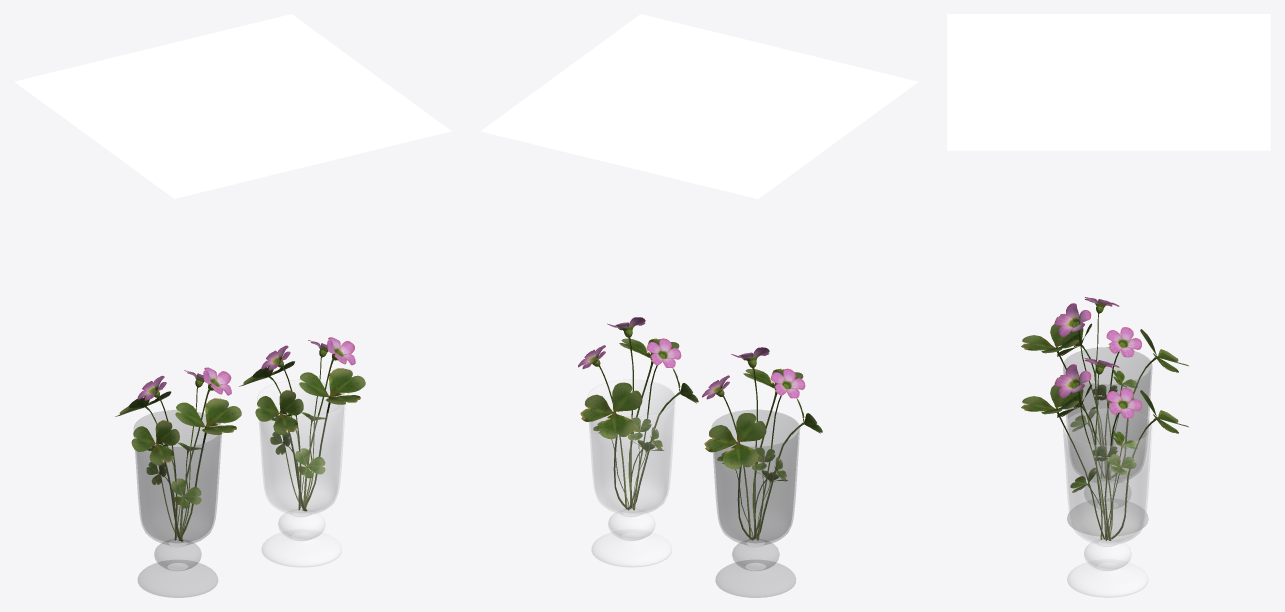
The model's file is khronos glass vase.gltf.
3 renders of one model, left to right at view 1: azimuth 30°, elevation 25°; view 2: azimuth 150°, elevation 25°; view 3: azimuth 270°, elevation 25°, orthographic.
Parts seen in each view (by area): view 1: Plane, GlassAlpha, GlassTransmission, Flowers2, Flowers1; view 2: Plane, GlassAlpha, GlassTransmission, Flowers1, Flowers2; view 3: Plane, GlassTransmission, GlassAlpha, Flowers2, Flowers1.
Part boxes in pixels (x1,y1,x2,y2): Plane: [14, 14, 451, 198]; GlassAlpha: [134, 410, 221, 597]; GlassTransmission: [257, 380, 345, 567]; Flowers2: [239, 337, 365, 511]; Flowers1: [115, 367, 241, 541]; Plane: [480, 14, 918, 198]; GlassAlpha: [712, 410, 799, 597]; GlassTransmission: [587, 379, 675, 567]; Flowers1: [702, 347, 822, 540]; Flowers2: [578, 317, 698, 510]; Plane: [947, 14, 1270, 150]; GlassTransmission: [1063, 408, 1152, 597]; GlassAlpha: [1063, 347, 1152, 535]; Flowers2: [1021, 358, 1188, 540]; Flowers1: [1021, 297, 1188, 479].
Size of what is drawn, in the model's own units: 2.81 by 4.47 by 2.81.
